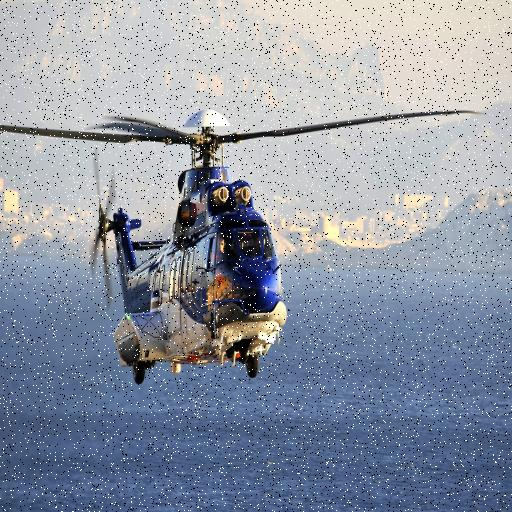helicopter: (12, 83, 442, 399)
